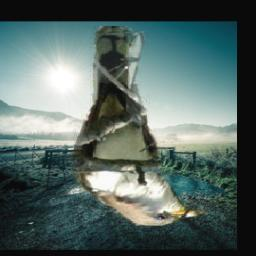Cuckoo: (71, 26, 208, 226)
